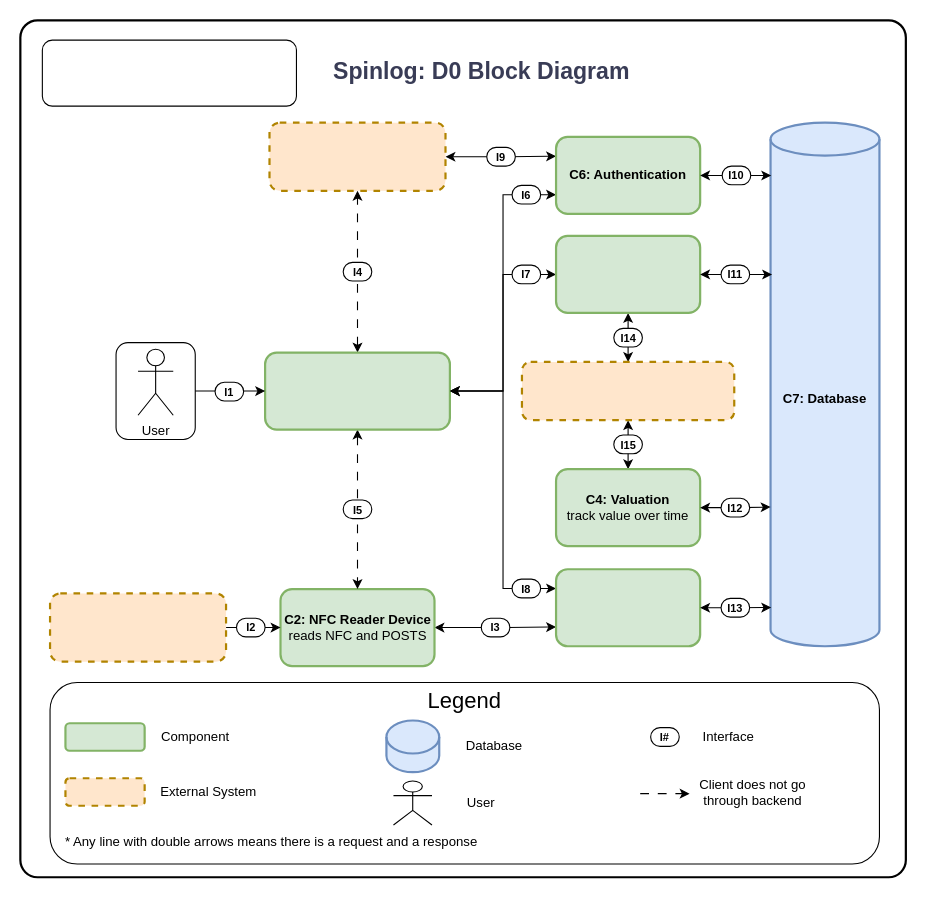
Image size: 925x897. Some labels were removed from this diagram. The centre of each missing label's shape, as x and y in pixels:
C1: Client App Frontend Mobile app: (356,390)
C3: Plays Keep track of record plays: (627,607)
C5: Collection View and edit records: (627,274)
E1: NFC Tag On each record sleeve: (137,627)
E2: Identity Provider For authentication: (357,156)
E3: Discogs API existing records and valuation: (627,390)
Goal: Catalog your vinyl records, track their value, and log every play: (168,72)
